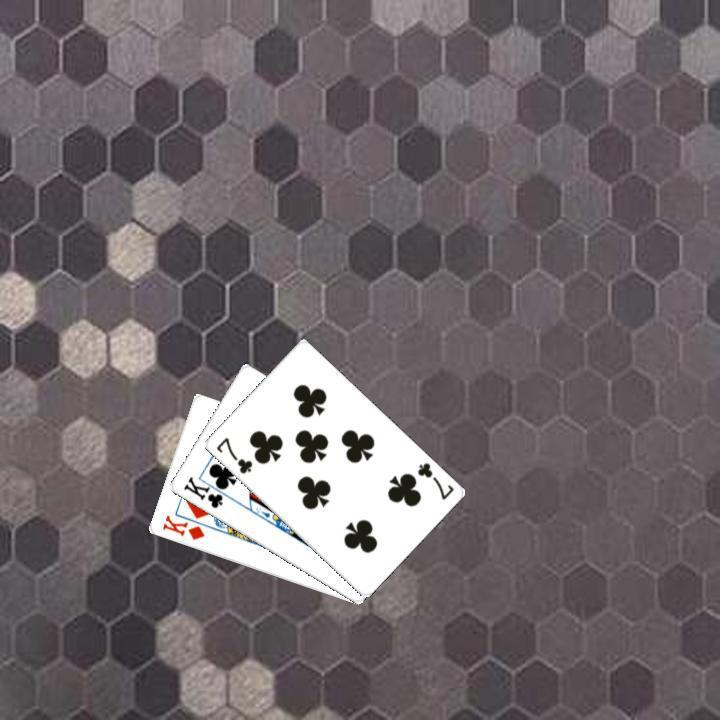7: (412, 458, 456, 502), (211, 433, 254, 476)
K: (179, 472, 233, 510), (158, 511, 207, 542)
